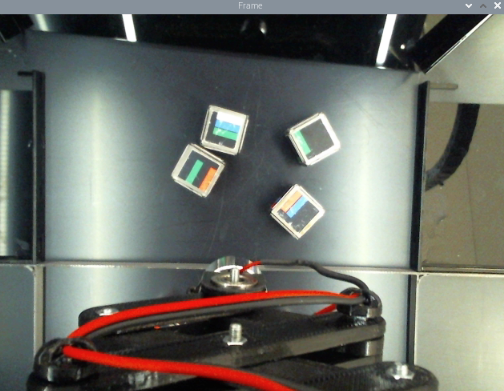Cube: (267, 178, 328, 245), (166, 139, 227, 200), (284, 104, 341, 169), (194, 101, 251, 158)
